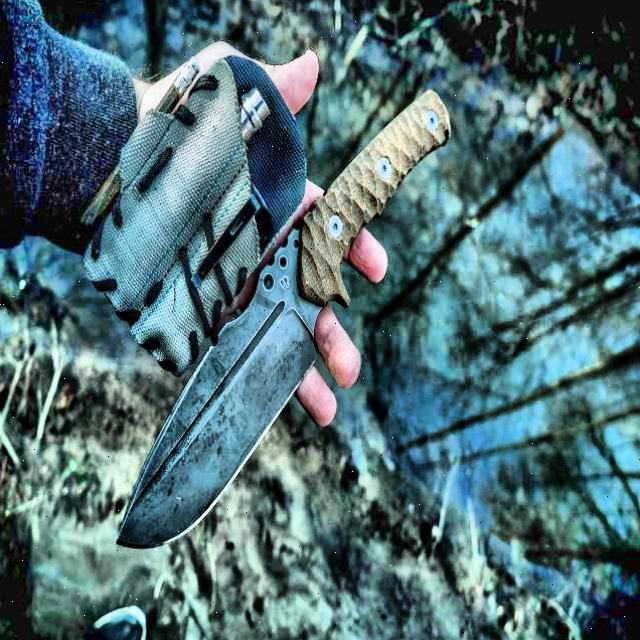knife: (111, 81, 459, 554)
